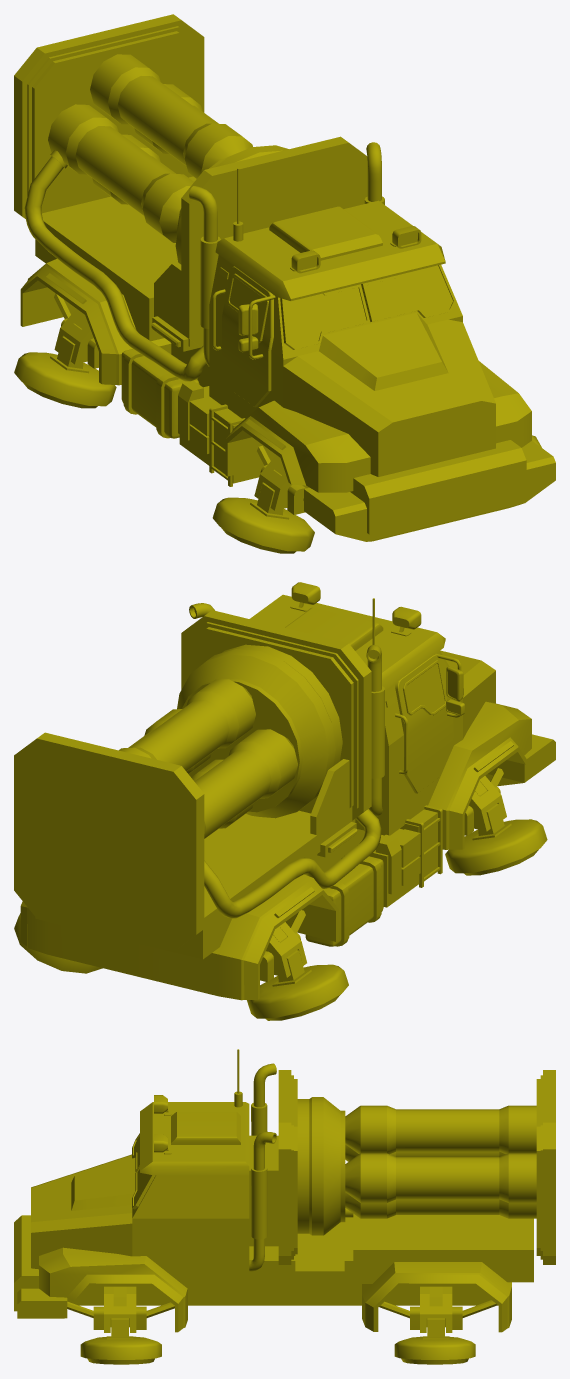
File: SM_Obstacle_Truck_Destructible.fbx
3 views of the same model, one above another, from view 1: azimuth 30°, elevation 25°; view 2: azimuth 150°, elevation 25°; view 3: azimuth 270°, elevation 25° (orthographic). The views are drawn at different scales.
Parts seen in each view (by area): view 1: SM_Front_low, SM_Backside_low, SM_Bottom_low, SM_Wheels_low; view 2: SM_Backside_low, SM_Bottom_low, SM_Front_low, SM_Wheels_low; view 3: SM_Backside_low, SM_Front_low, SM_Bottom_low, SM_Wheels_low.
Boxes of the visible parts, x1,y1,x2,y2 form: SM_Front_low: (189,142,495,476); SM_Backside_low: (14,14,367,381); SM_Bottom_low: (20,176,555,541); SM_Wheels_low: (14,293,541,553); SM_Backside_low: (14,610,381,951); SM_Bottom_low: (20,701,555,1000); SM_Front_low: (189,582,495,835); SM_Wheels_low: (14,768,547,1020); SM_Backside_low: (278,1070,555,1271); SM_Front_low: (31,1049,278,1290); SM_Bottom_low: (14,1214,533,1332); SM_Wheels_low: (67,1286,497,1364).
Size of the model in its own units: 4.55 by 4.28 by 8.42.
